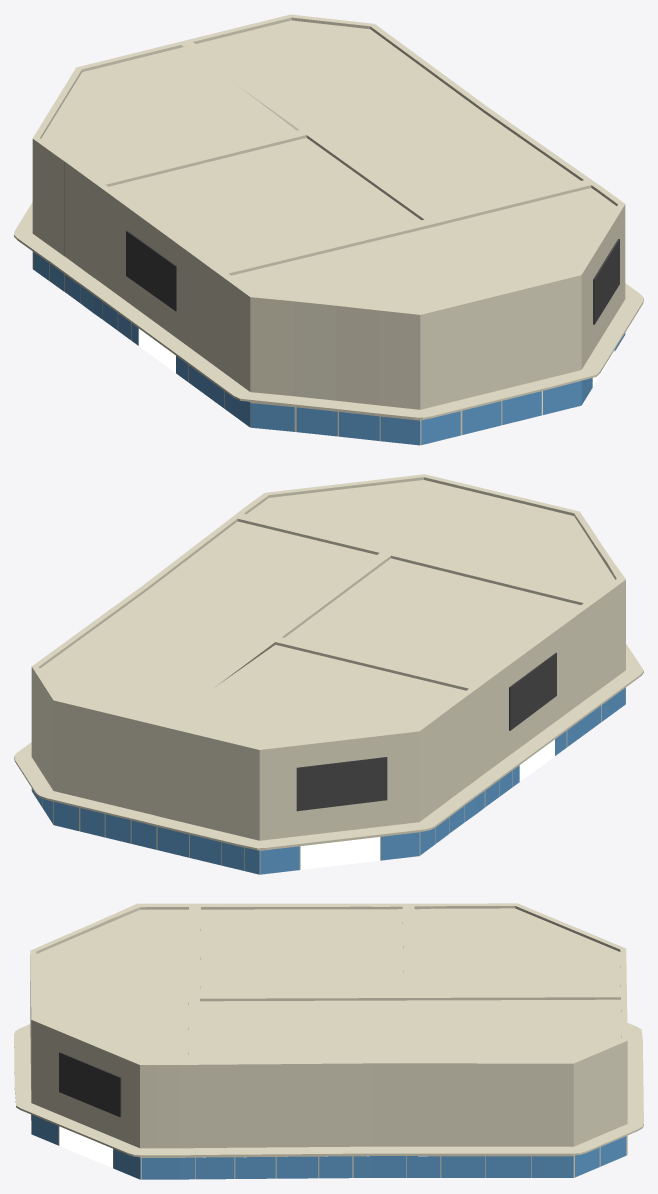
File: plein1_Haco.glb
The picture shows the model from 3 angles, top to bottom: view 1: azimuth 30°, elevation 25°; view 2: azimuth 150°, elevation 25°; view 3: azimuth 270°, elevation 25°; orthographic projection. The views are drawn at different scales.
Visible parts, largest first — view 1: 279815706.003; view 2: 279815706.003; view 3: 279815706.003.
Part boxes in pixels (left/top/right/bottom): 279815706.003: left=14, top=14, right=643, bottom=445; 279815706.003: left=14, top=474, right=643, bottom=874; 279815706.003: left=14, top=903, right=643, bottom=1179.
Bounding box in the file's own units: 171 × 52.09 × 259.
